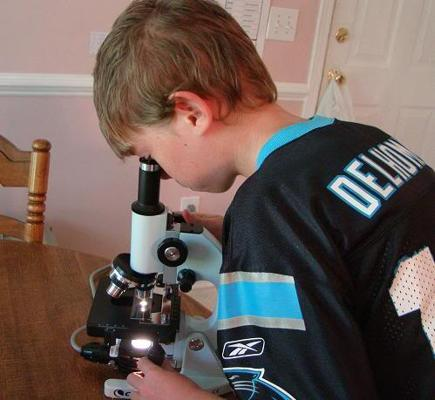person: (94, 4, 435, 400)
